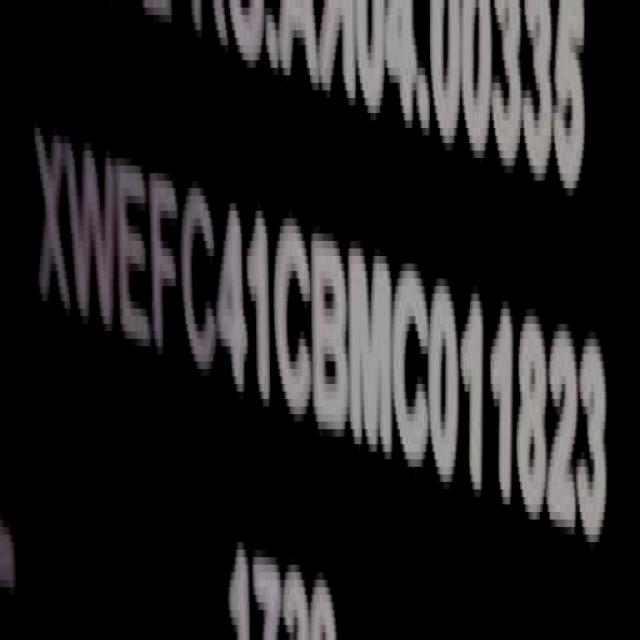0: (430, 276, 459, 488)
1: (246, 190, 272, 423), (460, 290, 486, 510), (490, 298, 514, 508)
2: (549, 329, 580, 541)
3: (577, 329, 608, 555)
8: (516, 307, 548, 527)
A: (217, 190, 250, 404)
B: (309, 223, 349, 435)
C: (392, 253, 430, 480), (275, 215, 314, 413), (181, 173, 217, 385)
E: (116, 140, 151, 348)
F: (147, 142, 179, 371)
M: (348, 237, 392, 474)
W: (66, 111, 117, 338)
X: (33, 109, 70, 332)
